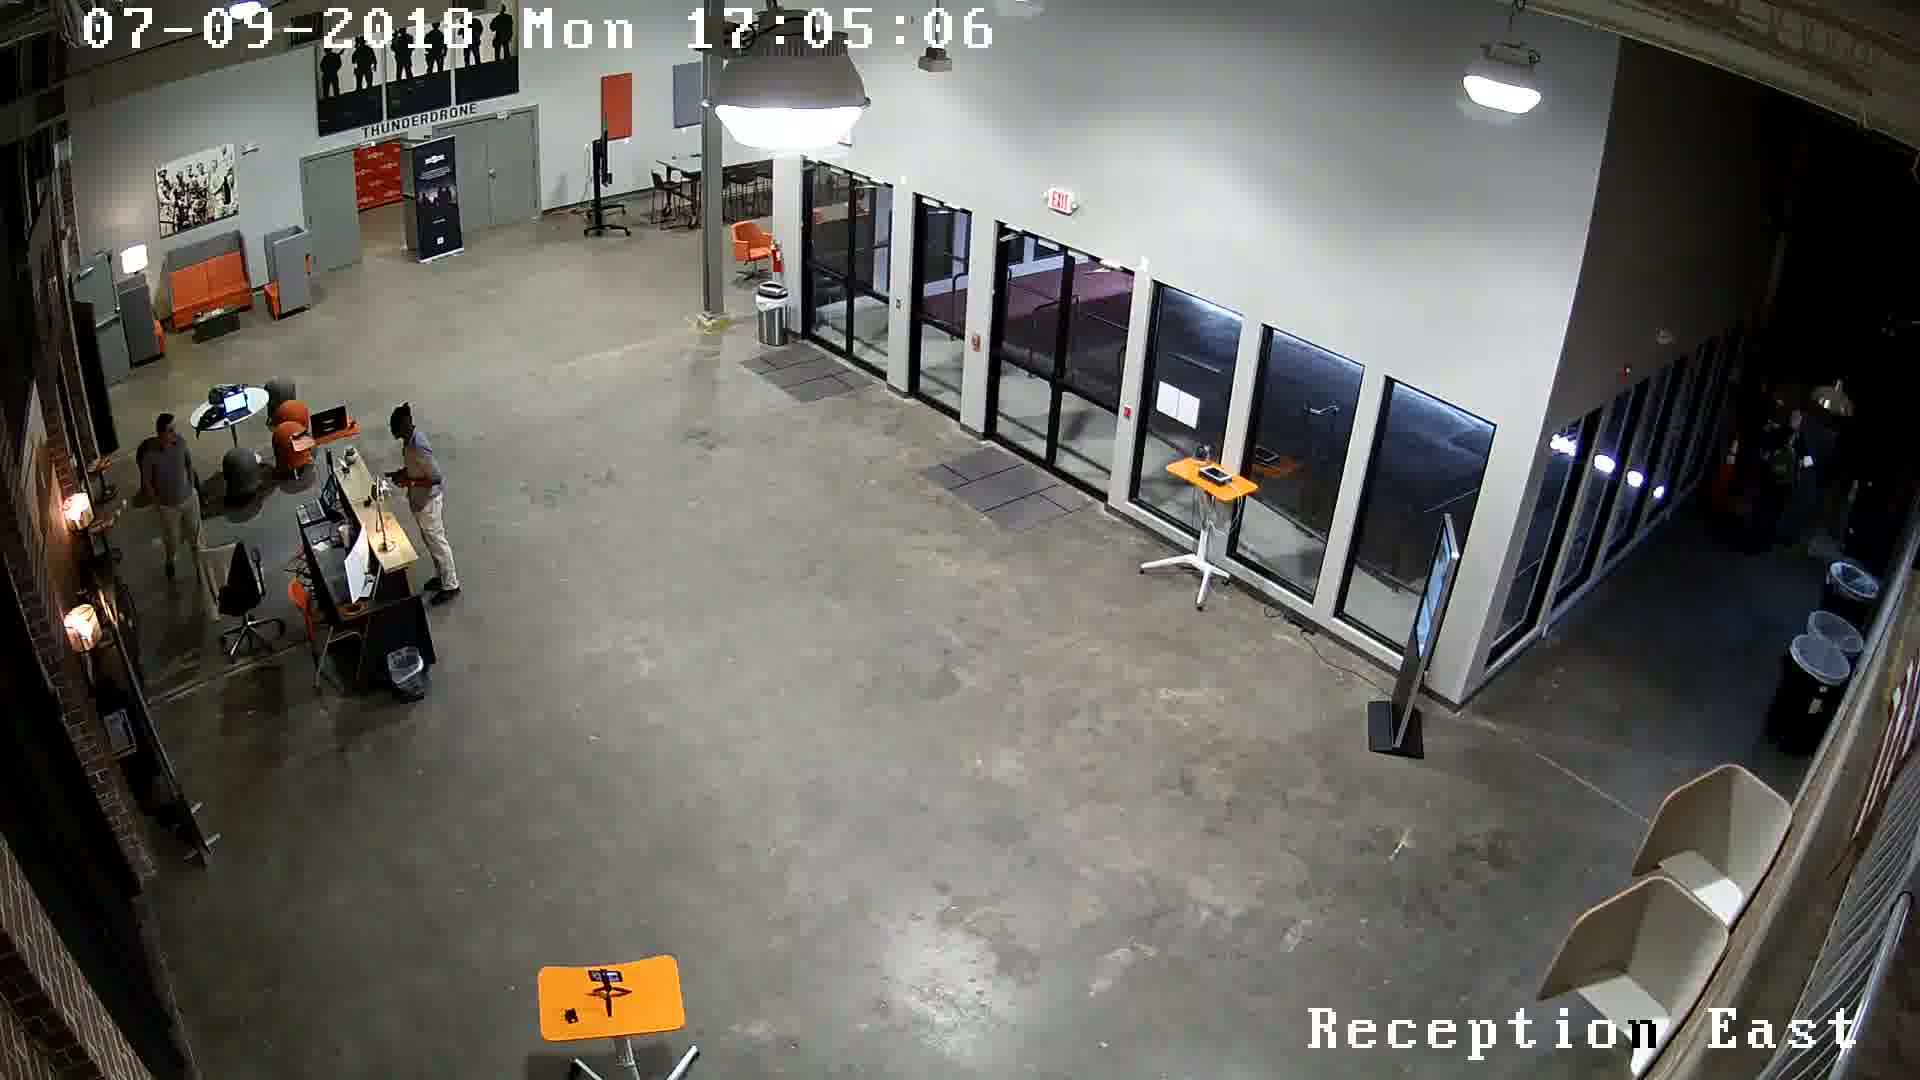pistol: (367, 464, 415, 498)
